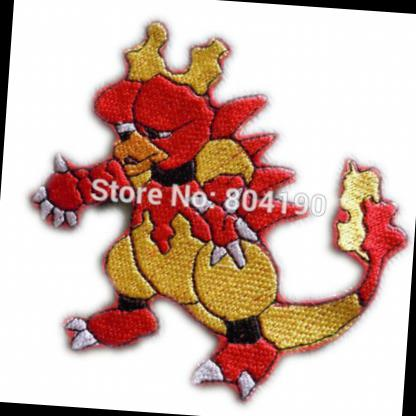Magmar: (4, 1, 368, 404)
